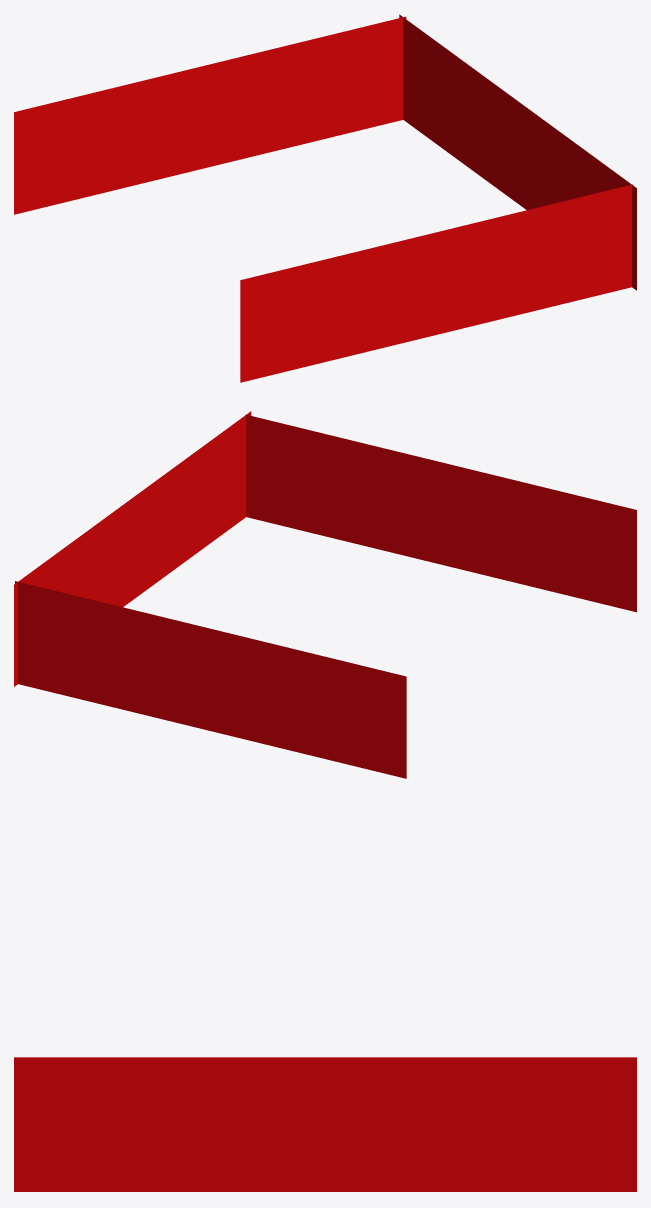
Rendered from collisions_18_visible.glb.
3 views of the same model, one above another, from view 1: azimuth 30°, elevation 25°; view 2: azimuth 150°, elevation 25°; view 3: azimuth 270°, elevation 25° (orthographic). The views are drawn at different scales.
Visible parts, largest first — view 1: Plane2_visible; view 2: Plane2_visible; view 3: Plane2_visible.
Boxes of the visible parts, x1,y1,x2,y2 form: Plane2_visible: [14, 14, 636, 382]; Plane2_visible: [14, 411, 636, 778]; Plane2_visible: [14, 1057, 636, 1191].
Size of the model in its own units: 15.2 by 3.78 by 15.86.
